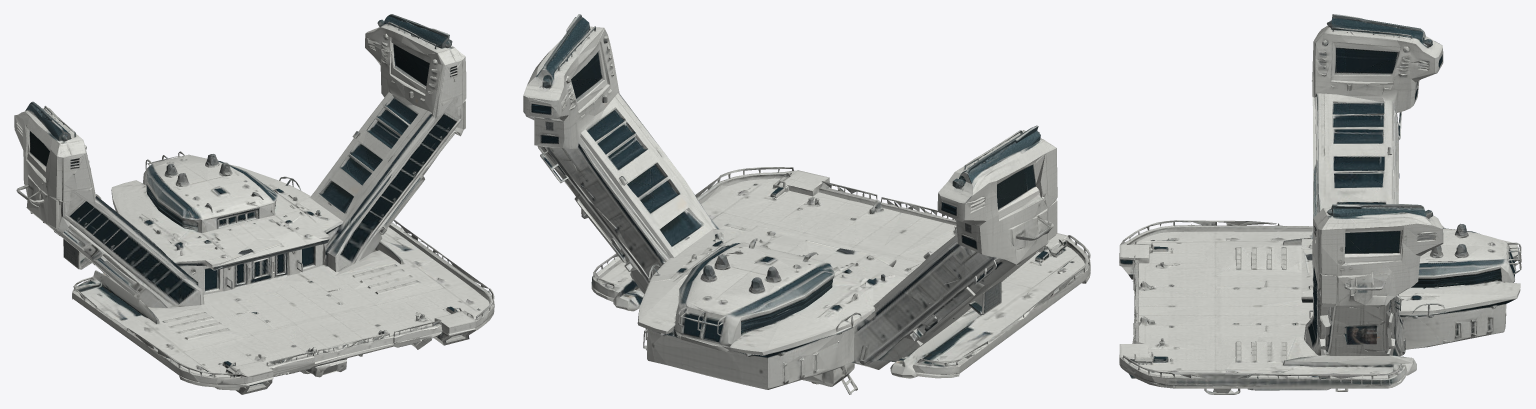
Rendered from web.glb.
3 renders of one model, left to right at view 1: azimuth 30°, elevation 25°; view 2: azimuth 150°, elevation 25°; view 3: azimuth 270°, elevation 25°, orthographic. The views are drawn at different scales.
Parts seen in each view (by area): view 1: output_unwrapped; view 2: output_unwrapped; view 3: output_unwrapped.
Part boxes in pixels (x1=…): output_unwrapped: x1=14, y1=14, x2=494, y2=394; output_unwrapped: x1=523, y1=14, x2=1090, y2=394; output_unwrapped: x1=1119, y1=14, x2=1521, y2=394.
Bounding box in the file's own units: 1.9 × 1.09 × 1.52.
1 material, 1 textured.
